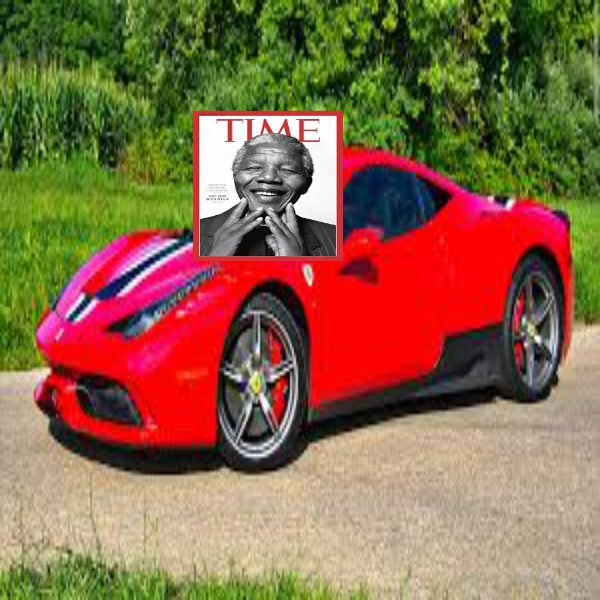time_cover: (191, 101, 354, 278)
